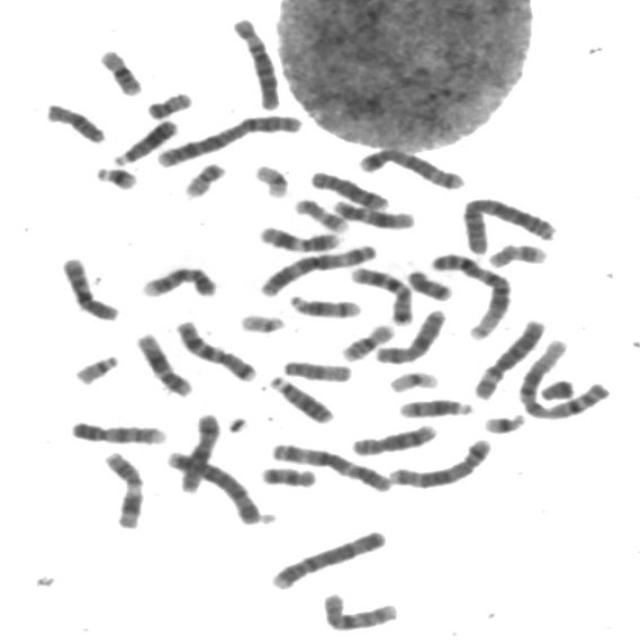A1: (514, 332, 616, 422), (427, 246, 518, 341)
A2: (152, 108, 308, 168), (457, 190, 561, 256)
A3: (265, 436, 397, 494), (255, 238, 382, 298)
B4: (266, 523, 392, 591), (161, 445, 266, 526)
B5: (385, 432, 496, 490), (353, 142, 469, 191)
C10: (56, 250, 125, 322), (317, 586, 404, 633)
C11: (99, 446, 150, 530), (255, 219, 346, 254)
C12: (132, 327, 196, 398), (328, 193, 419, 230)
C6: (469, 312, 550, 401), (227, 10, 285, 111)
C7: (171, 313, 262, 383), (346, 260, 418, 326)
C8: (304, 164, 394, 212), (346, 418, 442, 457)
C9: (137, 259, 222, 299), (65, 414, 171, 446)
D13: (109, 112, 182, 167), (266, 370, 338, 425)
D14: (284, 288, 366, 320), (394, 392, 478, 420)
D15: (40, 96, 110, 144), (278, 354, 356, 383)
E16: (94, 44, 148, 97), (338, 319, 400, 363)
E17: (289, 192, 353, 234), (484, 237, 551, 269)
E18: (402, 262, 456, 302), (256, 460, 322, 489)
F19: (248, 158, 294, 199), (385, 365, 443, 394)
F20: (179, 156, 230, 199), (142, 86, 197, 120)
G21: (90, 160, 142, 192), (479, 407, 530, 435)
G22: (70, 348, 124, 386), (235, 308, 290, 334)
X: (371, 303, 451, 366), (176, 406, 226, 494)
Y: (536, 374, 578, 402)
